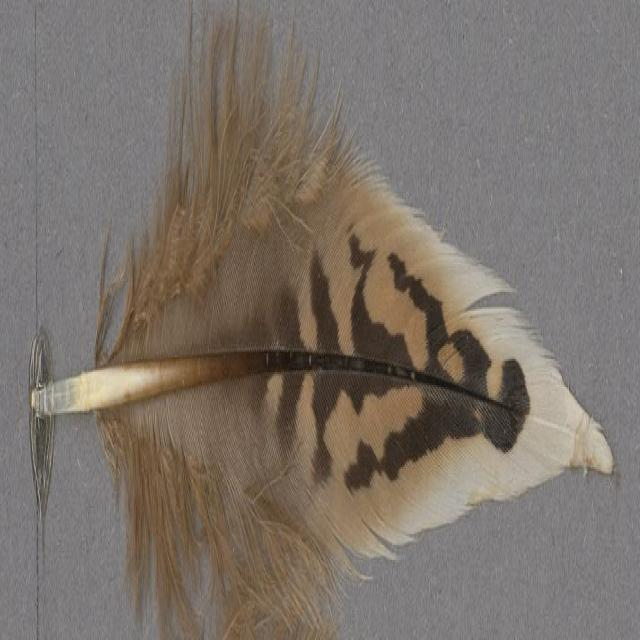feather: (35, 0, 616, 640)
